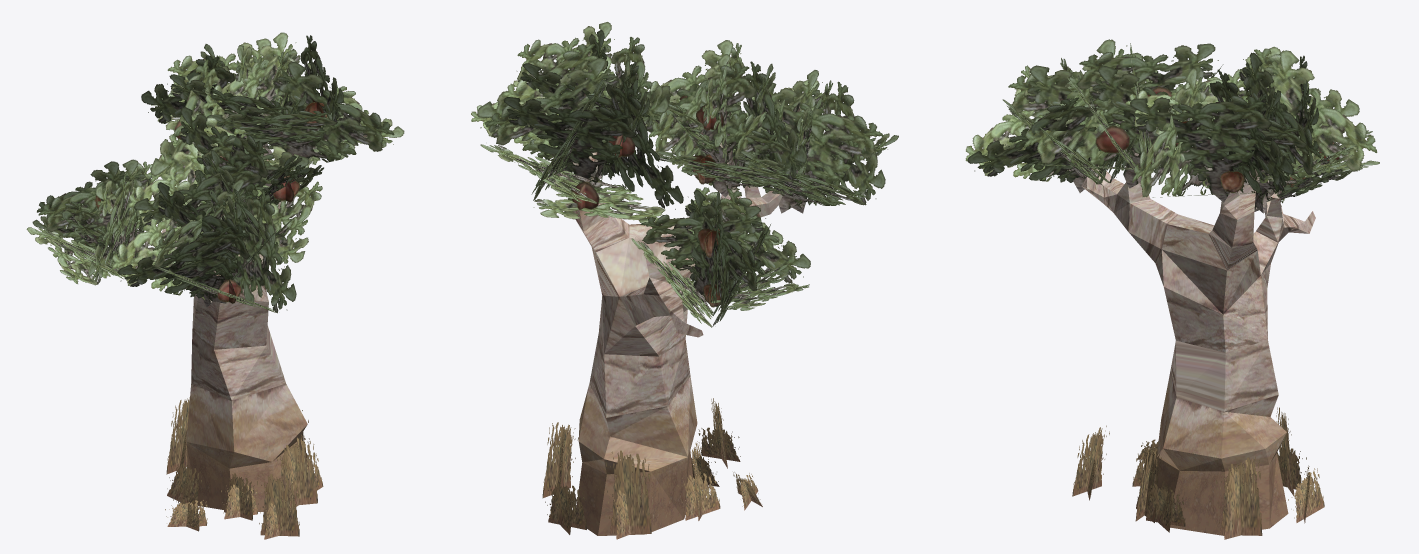
Rendered from C2SNBTRB.obj.
3 renders of one model, left to right at view 1: azimuth 30°, elevation 25°; view 2: azimuth 150°, elevation 25°; view 3: azimuth 270°, elevation 25°, orthographic. The views are drawn at different scales.
Visible parts, largest first — view 1: Node 0; view 2: Node 0; view 3: Node 0.
Boxes of the visible parts, x1=… form: Node 0: x1=26, y1=32, x2=404, y2=539; Node 0: x1=471, y1=22, x2=898, y2=539; Node 0: x1=965, y1=39, x2=1379, y2=539.
Bounding box in the file's own units: 6.44 × 8.36 × 7.25.
2 materials, 2 textured.
